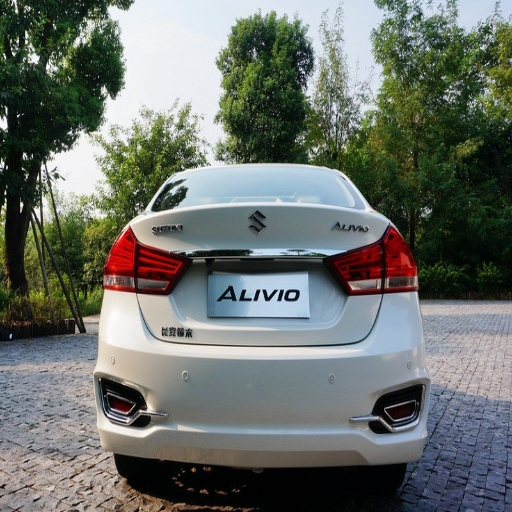back_bumper: (93, 289, 443, 470)
tailgate: (131, 199, 388, 343)
trunk: (127, 238, 238, 345)
